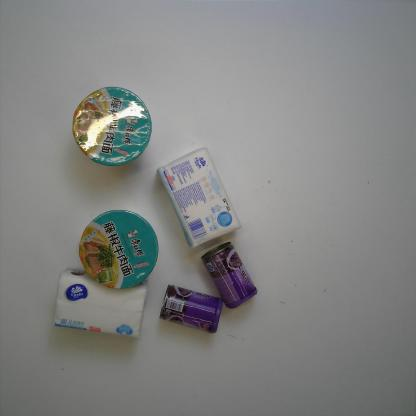Canned Food: (200, 241, 258, 310), (158, 284, 224, 334)
Instant Noodles: (78, 210, 159, 290), (72, 86, 152, 166)
Tissue: (156, 146, 242, 250), (53, 267, 148, 339)
